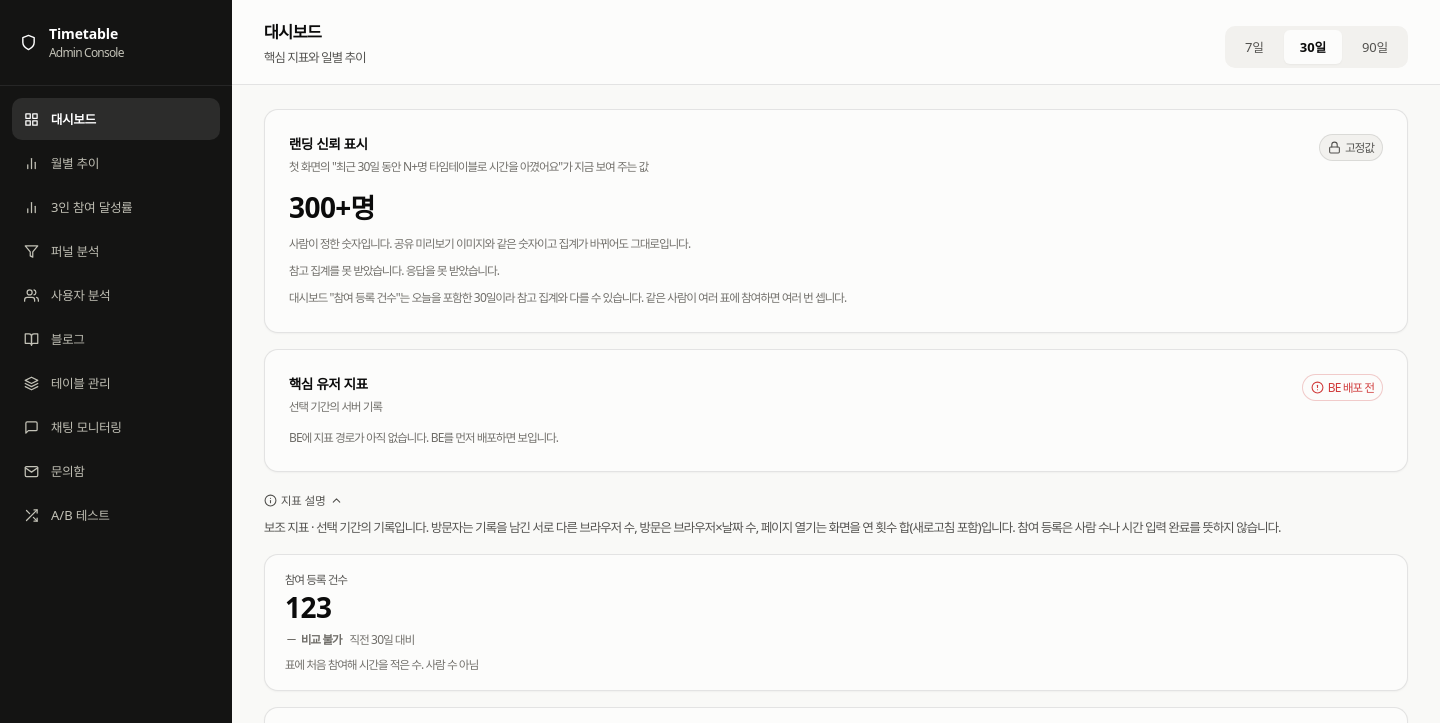
Test: 기간 변경 후 늦은 이전 응답이 최신 KPI를 덮지 않는다
Expected: the text "123" is shown, [285,588,331,626]
What coordinates should you click on to do the following:
click the button "3인 참여 달성률"
I would click on:
 (116, 207)
Its box is [12,186,220,228].
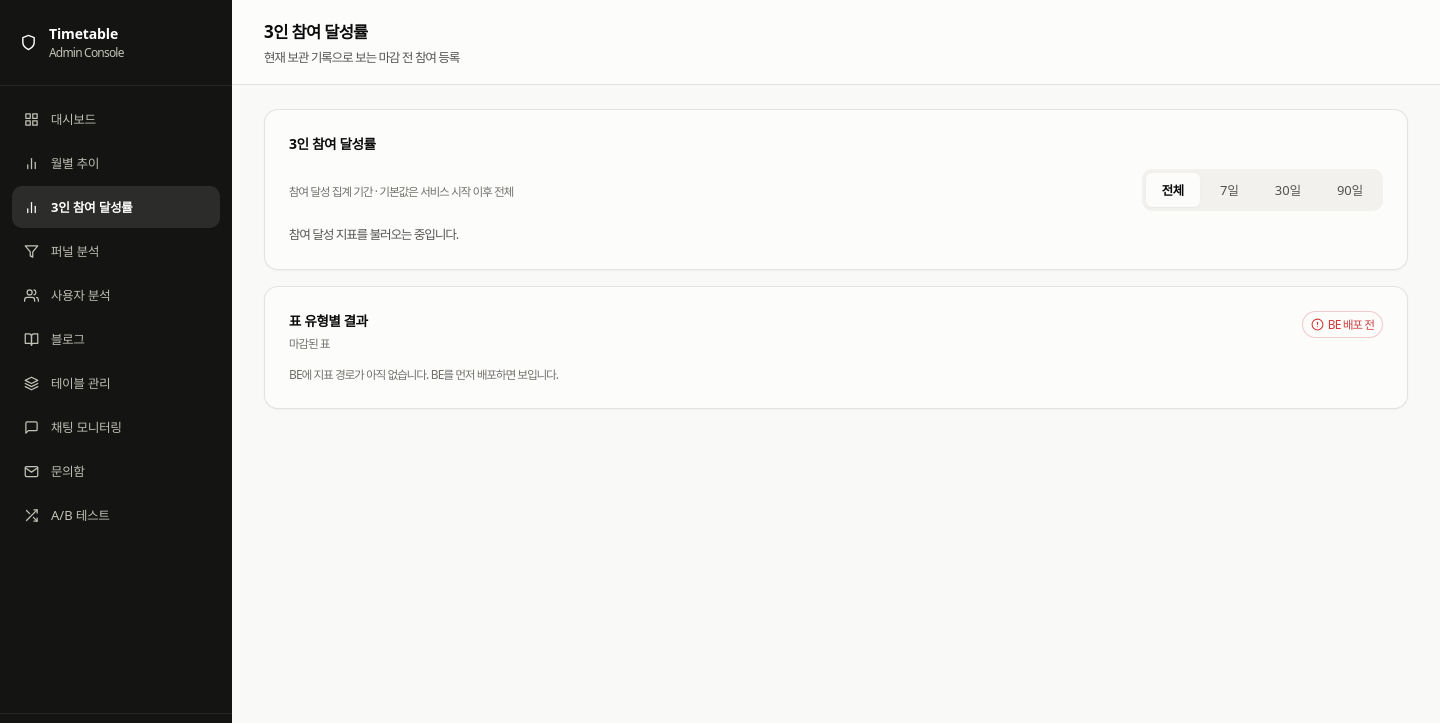
What coordinates should you click on to do the following:
click the button "7일"
I would click on:
 (1229, 190)
Its box is [1204,173,1255,207].
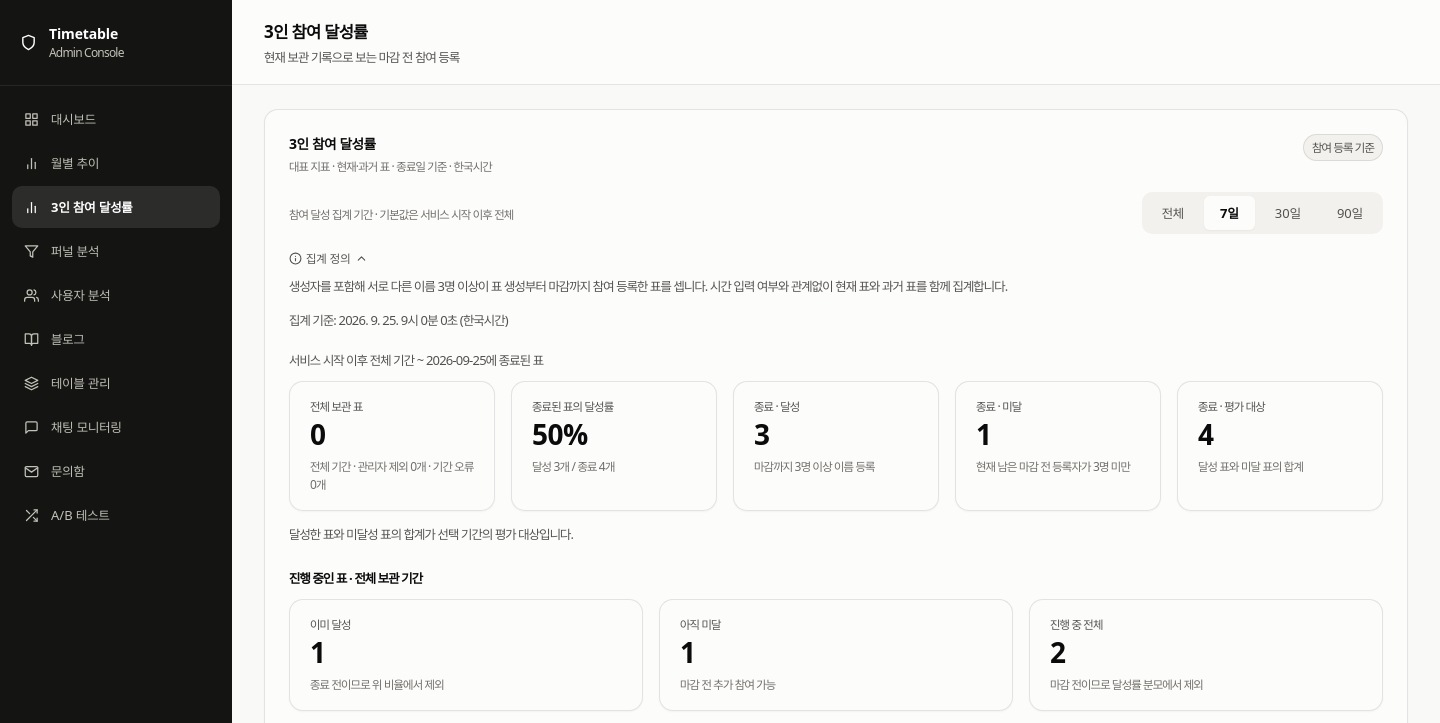
Result: the text "50%" is shown at [532,415,588,453]
